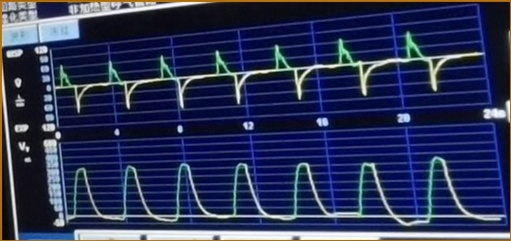Accumulation Flow: (57, 31, 462, 114)
Volume: (69, 156, 490, 227)
